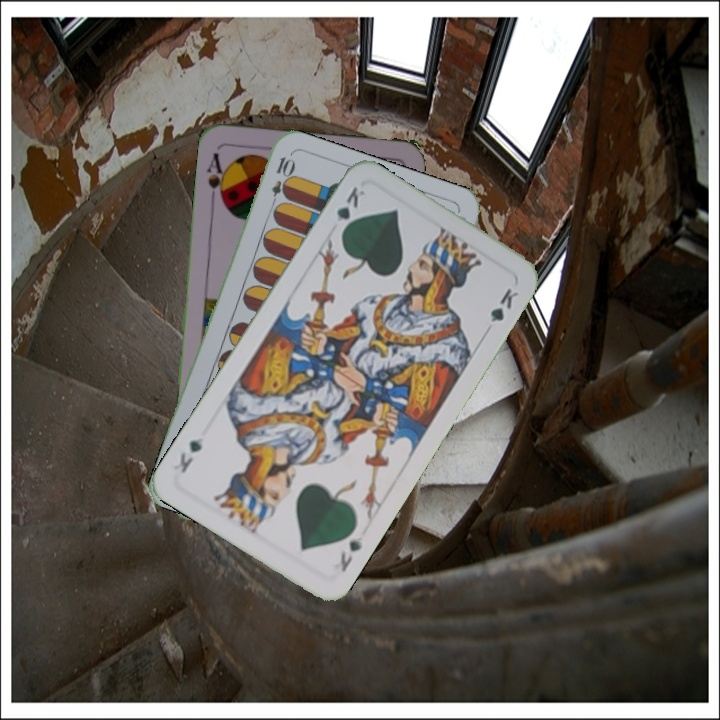E10: (266, 153, 295, 211)
GK: (330, 182, 368, 238), (336, 530, 364, 574)
SA: (202, 149, 230, 206)
